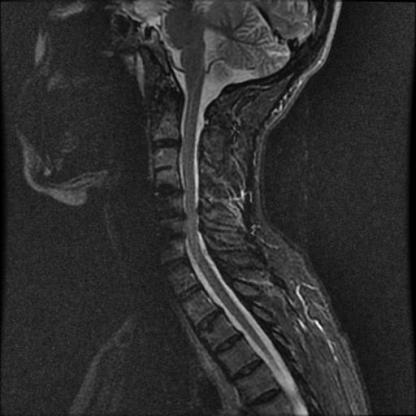Disc Protrusionrotation: (152, 179, 181, 203), (157, 208, 184, 229), (152, 164, 179, 174)
Osteophytesrotation: (151, 179, 180, 203), (158, 208, 185, 229), (153, 164, 179, 174)
